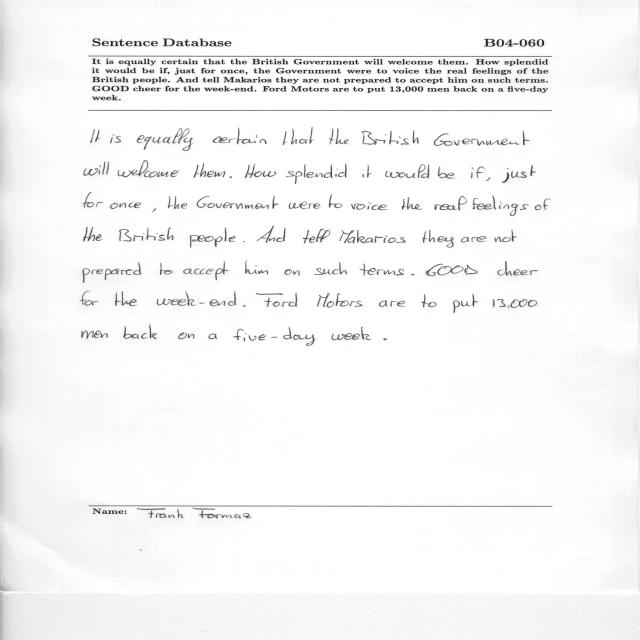word: (233, 327, 316, 346), (434, 131, 530, 146), (137, 128, 193, 151), (286, 164, 347, 184), (83, 262, 141, 283), (472, 195, 529, 216), (157, 292, 236, 307), (197, 196, 279, 209), (118, 161, 178, 178), (339, 230, 406, 244), (190, 228, 236, 248), (213, 128, 266, 145), (183, 261, 229, 280), (362, 130, 419, 145), (119, 228, 174, 241), (317, 293, 363, 308), (426, 264, 478, 276), (386, 164, 430, 178), (497, 261, 538, 276), (502, 165, 536, 183), (422, 230, 454, 248), (256, 293, 297, 307), (283, 127, 314, 145), (359, 264, 404, 276), (332, 327, 372, 340), (123, 324, 157, 339), (257, 226, 286, 243), (194, 163, 226, 178), (453, 294, 478, 313), (434, 196, 467, 210), (314, 261, 347, 275), (245, 164, 276, 178), (303, 229, 330, 244), (493, 299, 537, 308), (84, 161, 109, 176), (115, 291, 137, 306), (245, 261, 268, 275), (329, 129, 349, 145), (83, 193, 103, 208), (494, 229, 517, 242), (351, 202, 388, 210), (80, 291, 99, 306), (402, 197, 423, 210), (84, 227, 103, 241), (289, 201, 321, 209), (168, 196, 187, 209), (82, 330, 108, 339), (110, 202, 141, 209), (438, 167, 455, 179), (422, 294, 437, 307), (329, 194, 342, 208), (379, 300, 405, 307), (471, 167, 485, 179), (535, 199, 550, 210), (461, 236, 486, 242), (160, 263, 172, 275), (362, 164, 372, 178), (91, 129, 100, 143), (178, 333, 195, 340), (284, 269, 300, 276), (110, 135, 121, 144), (208, 334, 217, 339), (486, 177, 490, 181), (152, 208, 156, 212), (383, 338, 387, 340), (243, 305, 246, 307), (230, 176, 232, 178), (411, 274, 415, 275), (243, 241, 245, 242)
